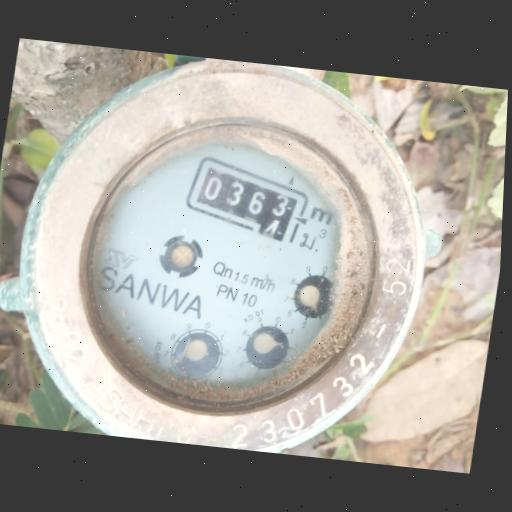0: (195, 166, 232, 210)
3: (257, 190, 299, 242), (217, 174, 254, 218)
6: (239, 182, 275, 226)
border_water_meter_number: (178, 154, 318, 249)
